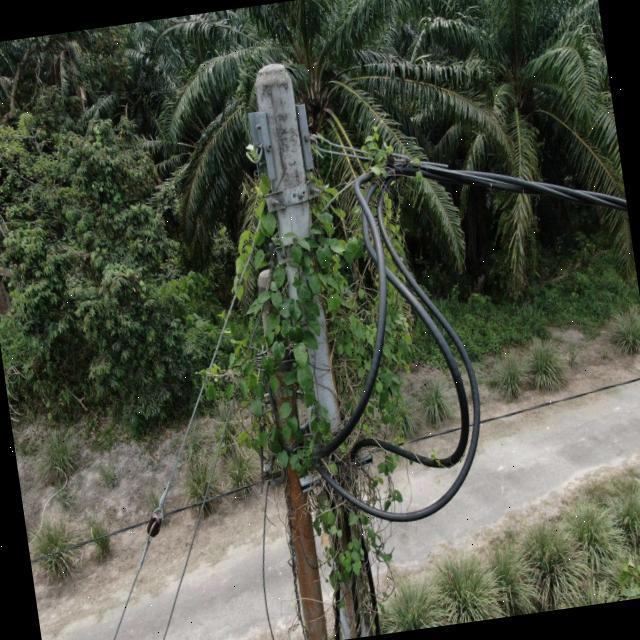critical vegetation: (184, 98, 435, 640)
